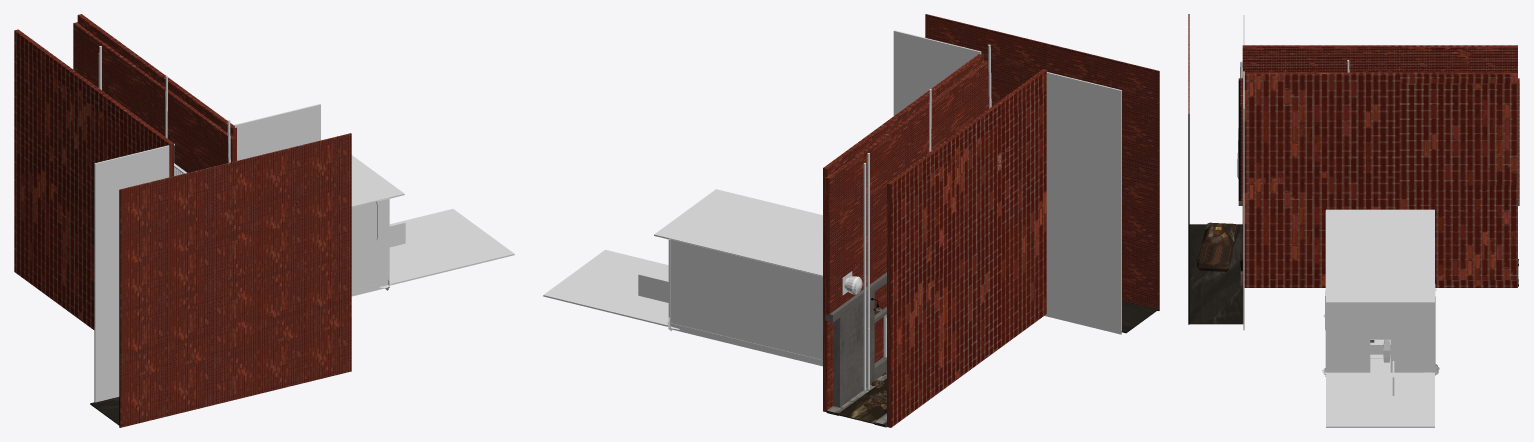
Rendered from backalley.fbx.
3 renders of one model, left to right at view 1: azimuth 30°, elevation 25°; view 2: azimuth 150°, elevation 25°; view 3: azimuth 270°, elevation 25°, orthographic. The views are drawn at different scales.
Visible parts, largest first — view 1: Backwall, Wall 2, CemLedgelong.001, street.003, Cube, street.004, Cube.003, Wall 2.001, Cube.001, Cube.019, street.001; view 2: Wall 2, street.003, Backwall, Cube.002, CemLedgelong.001, Cube.001, Cube, Wall 2.001, street.004, CemBlockR, pipe, street (+5 smaller); view 3: Wall 2.001, Cube.001, Wall 2, Cube.026, Cube, street.001, car.001, CemLedgelong.001, Backwall, street.004.
Boxes of the visible parts, x1,y1,x2,y2 form: Backwall: [119, 133, 351, 427]; Wall 2: [14, 29, 173, 329]; CemLedgelong.001: [73, 22, 236, 172]; street.003: [94, 145, 169, 402]; Cube: [389, 209, 514, 285]; street.004: [234, 104, 320, 160]; Cube.003: [351, 201, 389, 296]; Wall 2.001: [77, 14, 236, 137]; Cube.001: [351, 155, 404, 207]; Cube.019: [376, 198, 389, 240]; street.001: [90, 397, 119, 425]; Wall 2: [887, 69, 1047, 427]; street.003: [1044, 72, 1121, 334]; Backwall: [925, 14, 1159, 310]; Cube.002: [669, 239, 822, 366]; CemLedgelong.001: [824, 60, 988, 315]; Cube.001: [654, 189, 822, 276]; Cube: [543, 249, 668, 326]; Wall 2.001: [823, 54, 983, 411]; street.004: [893, 30, 981, 115]; CemBlockR: [833, 292, 874, 407]; pipe: [863, 163, 866, 390]; street: [839, 380, 886, 423]; Wall 2.001: [1242, 72, 1517, 287]; Cube.001: [1326, 209, 1434, 303]; Wall 2: [1242, 45, 1517, 72]; Cube.026: [1326, 296, 1435, 372]; Cube: [1326, 359, 1434, 427]; street.001: [1189, 224, 1243, 324]; car.001: [1197, 222, 1238, 271]; CemLedgelong.001: [1238, 78, 1519, 200]; Backwall: [1188, 14, 1189, 324]; street.004: [1243, 71, 1244, 330].
Bounding box in the file's own units: 2509 × 1363 × 1721.
